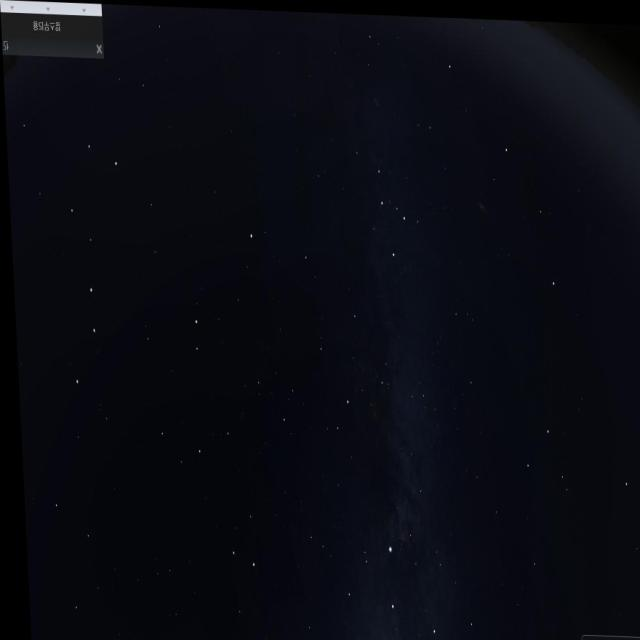cassiopeia: (346, 128, 427, 273)
cygnus: (340, 497, 450, 640)
ursa_major: (47, 129, 130, 398)
